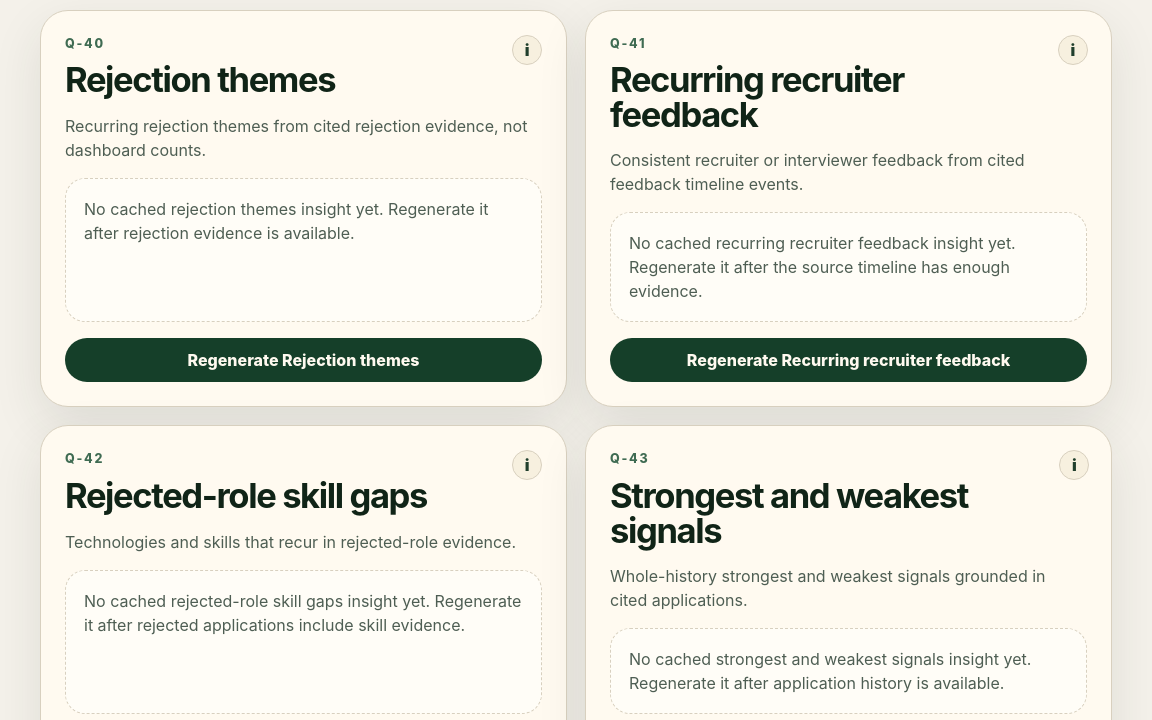
Test: Insights › explains why other regenerate actions are disabled during regeneration
(page scrolled)
Click the button "Regenerate Rejection themes" at [304, 360], box x1=65 y1=338 x2=542 y2=382
(page scrolled)
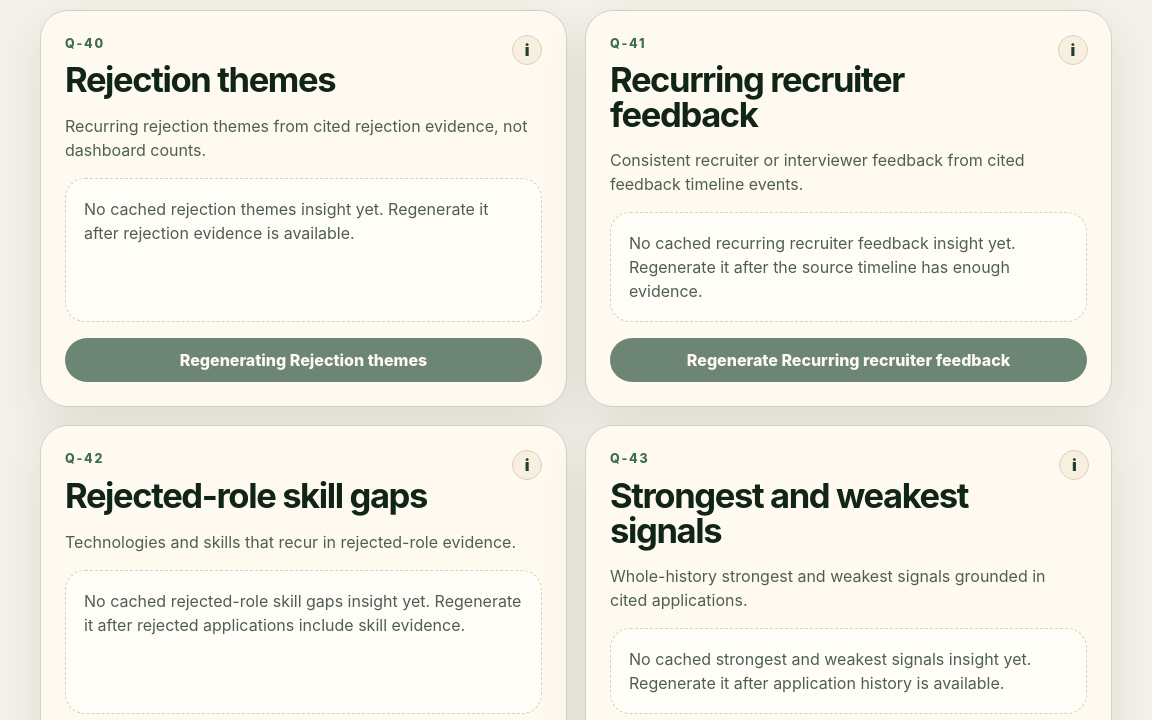
Now the button "Regenerate Recurring recruiter feedback" is disabled, box x1=610 y1=338 x2=1087 y2=382
